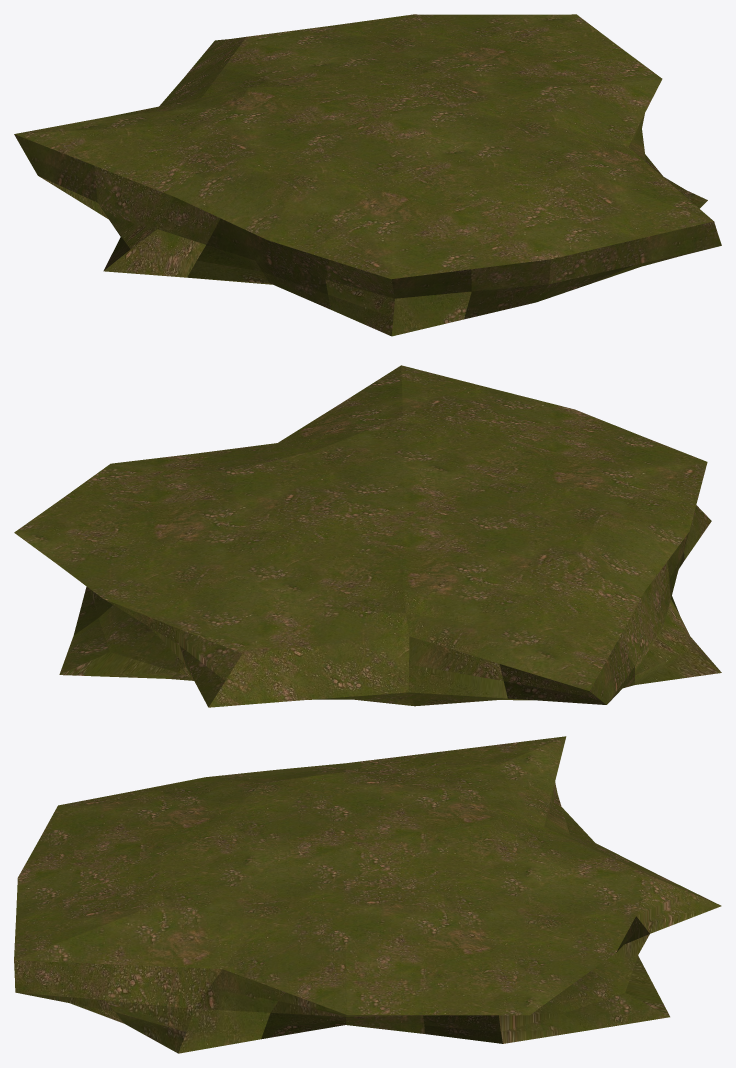
Rendered from slab_1.glb.
3 views of the same model, one above another, from view 1: azimuth 30°, elevation 25°; view 2: azimuth 150°, elevation 25°; view 3: azimuth 270°, elevation 25° (orthographic). The views are drawn at different scales.
Visible parts, largest first — view 1: slab; view 2: slab; view 3: slab.
Part boxes in pixels (x1,y1,x2,y2): slab: (14, 14, 721, 336); slab: (14, 365, 721, 707); slab: (14, 736, 721, 1053).
Size of the model in its own units: 3.39 by 0.6226 by 3.53.
Materials: 1 (1 with a texture image).
